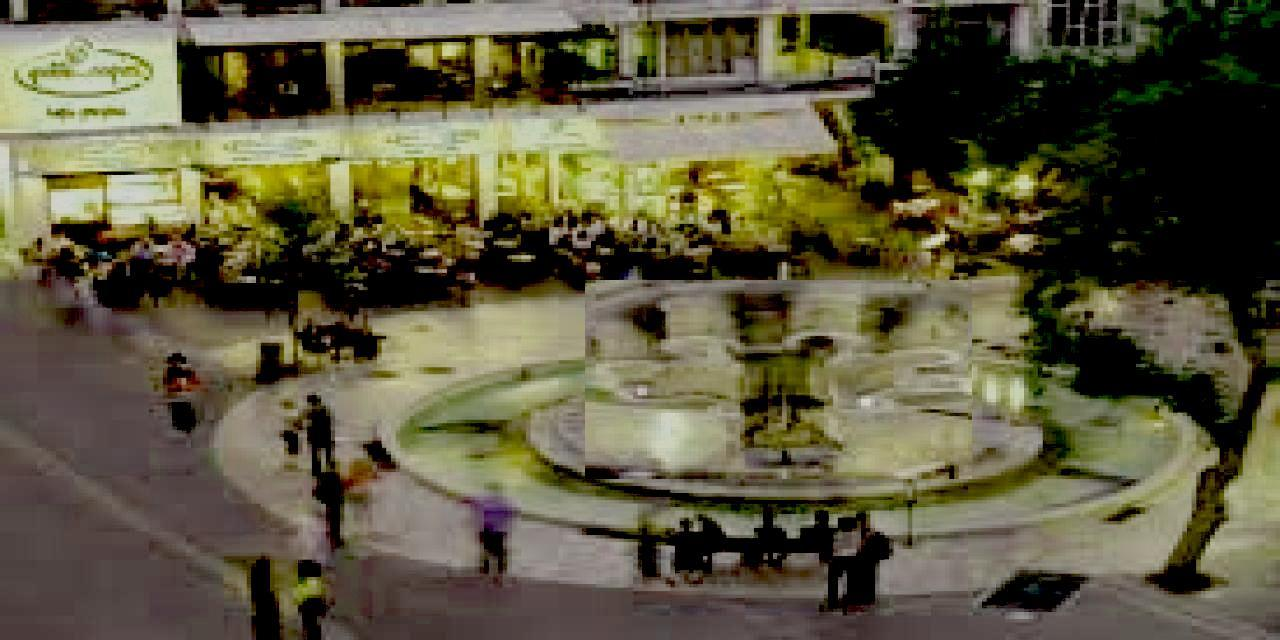Liontaria: (586, 281, 973, 480)
